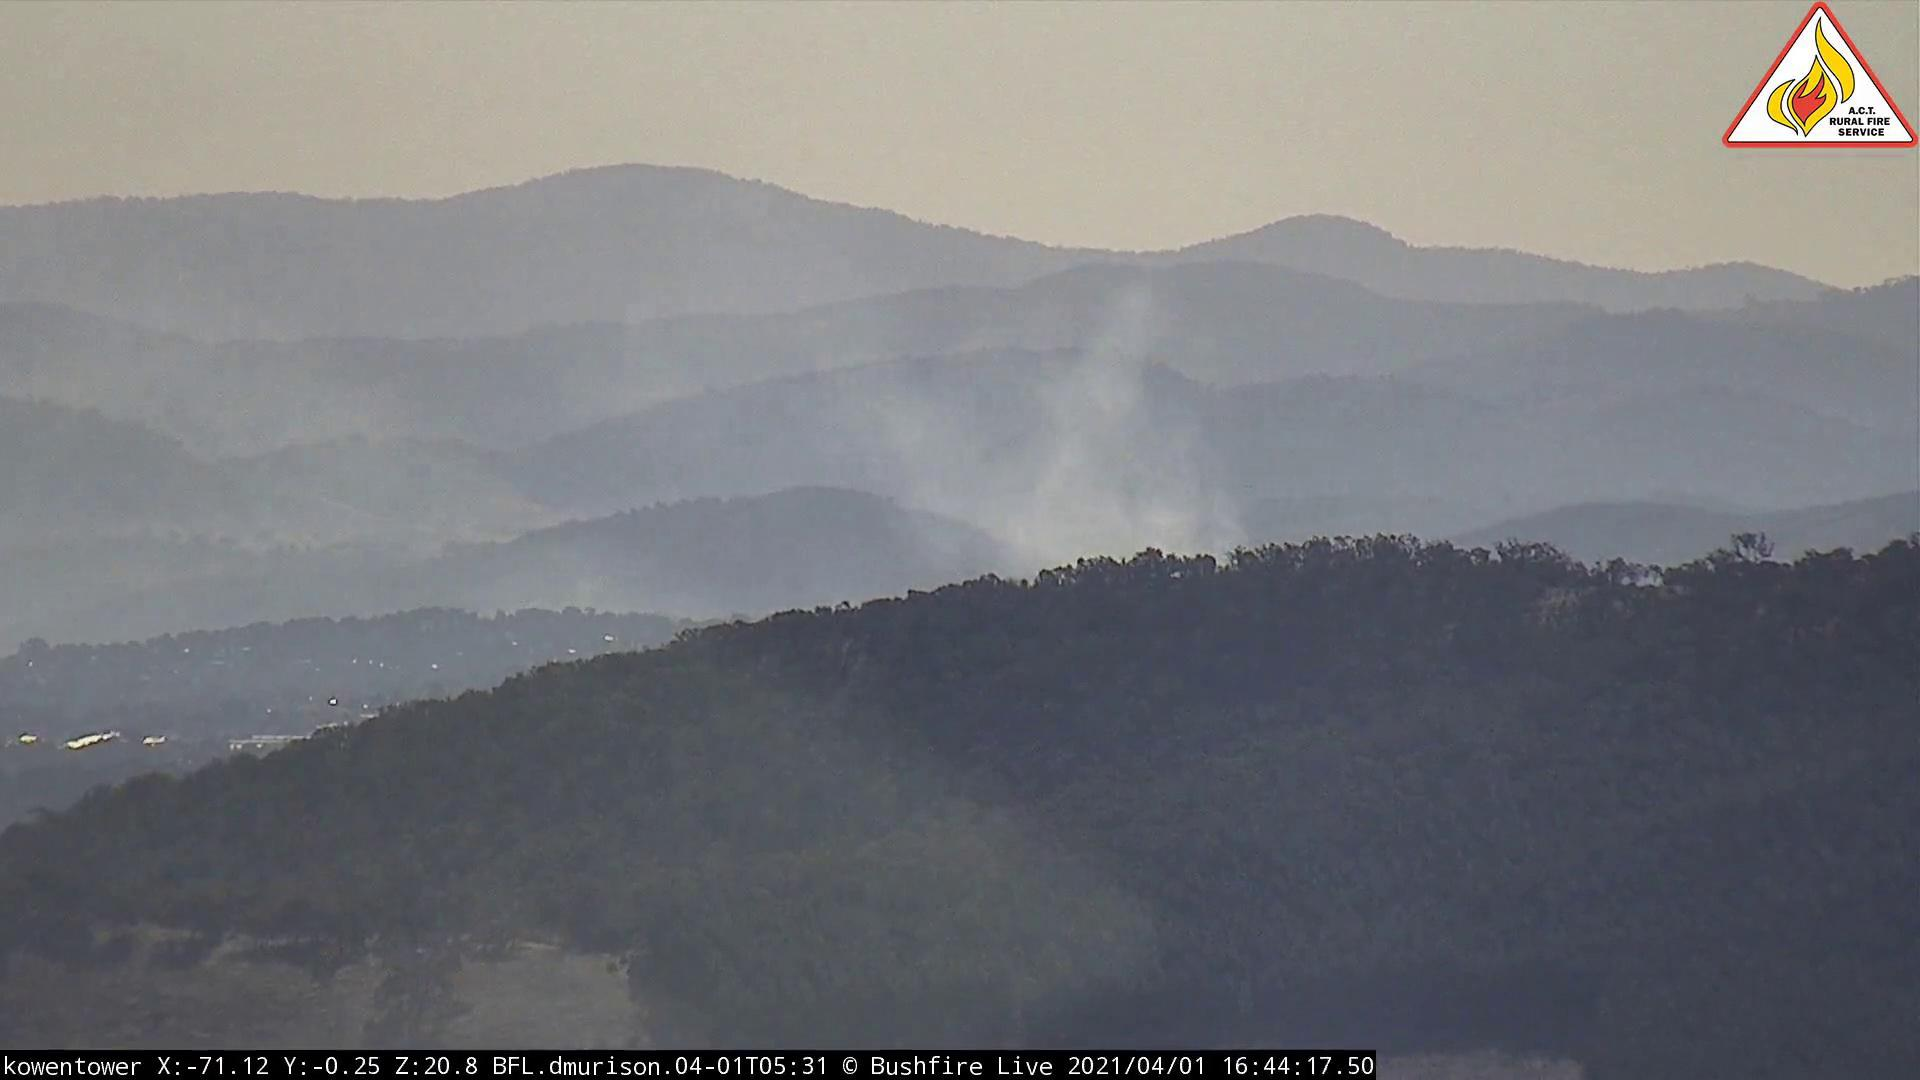Smoke: (669, 196, 1304, 655)
